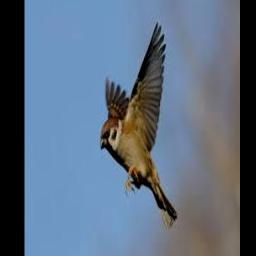Sparrow: (100, 22, 177, 230)
